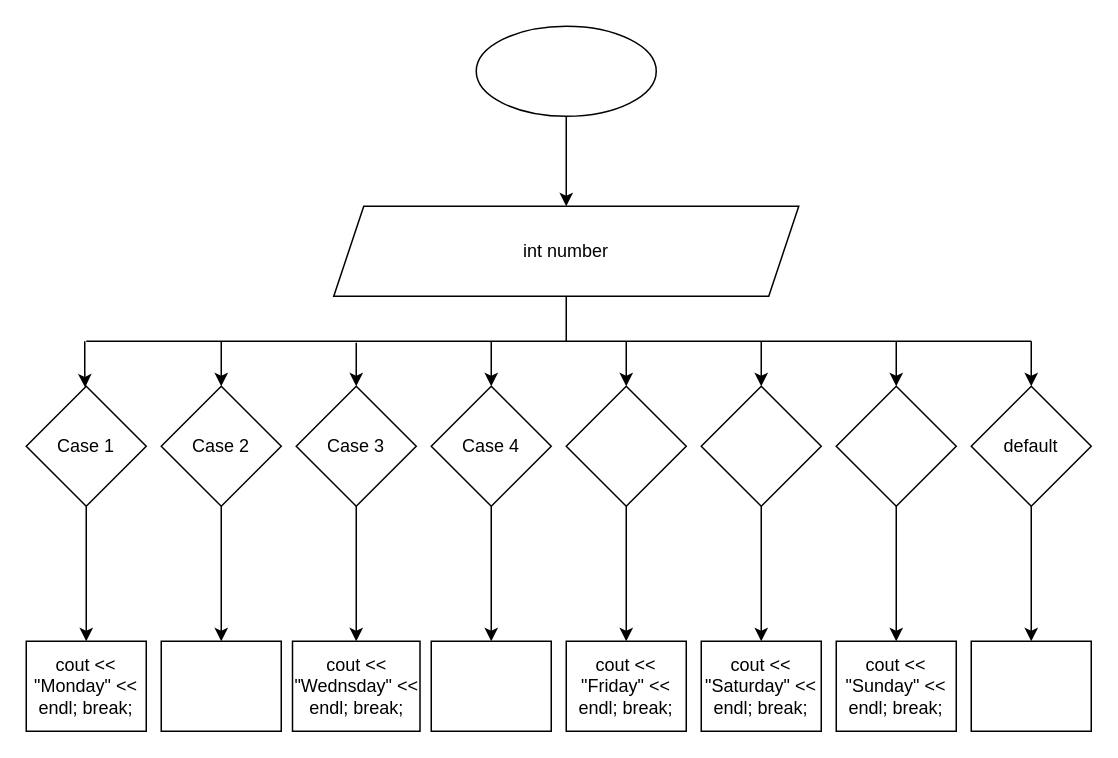
Some shapes in this 1118 by 758 pixel diagram are drawn without their labels. Each missing label, with the centre of its shape:
Case 5: (x=625, y=445)
Case 6: (x=760, y=445)
Case 7: (x=895, y=445)
cout << "Thursday" << endl; break;: (x=490, y=685)
cout << "Tuesday" << endl; break;: (x=220, y=685)
Inicio: (x=565, y=70)
